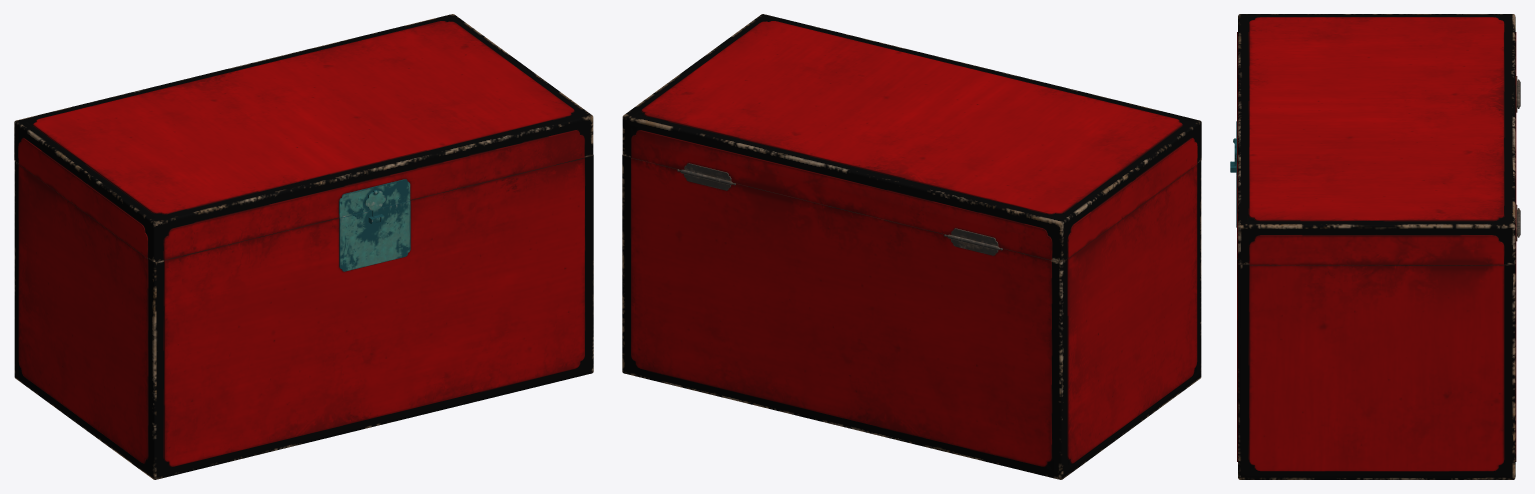
3 views of the same model, side by side, from view 1: azimuth 30°, elevation 25°; view 2: azimuth 150°, elevation 25°; view 3: azimuth 270°, elevation 25° (orthographic).
Visible parts, largest first — view 1: SM_Box286; view 2: SM_Box286; view 3: SM_Box286.
Boxes of the visible parts, x1,y1,x2,y2 form: SM_Box286: [14, 14, 593, 479]; SM_Box286: [622, 14, 1201, 479]; SM_Box286: [1230, 14, 1520, 479].
Size of the model in its own units: 90.39 by 50.72 by 51.99.
1 material, 1 textured.
